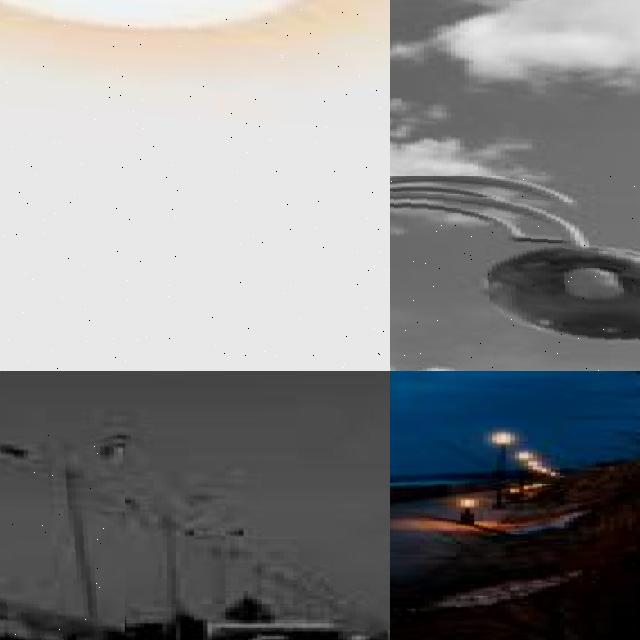street light: (0, 0, 390, 371), (390, 176, 640, 371), (0, 432, 124, 640), (492, 432, 508, 508), (519, 452, 531, 497), (528, 462, 535, 492), (532, 466, 540, 491), (542, 468, 546, 487)
